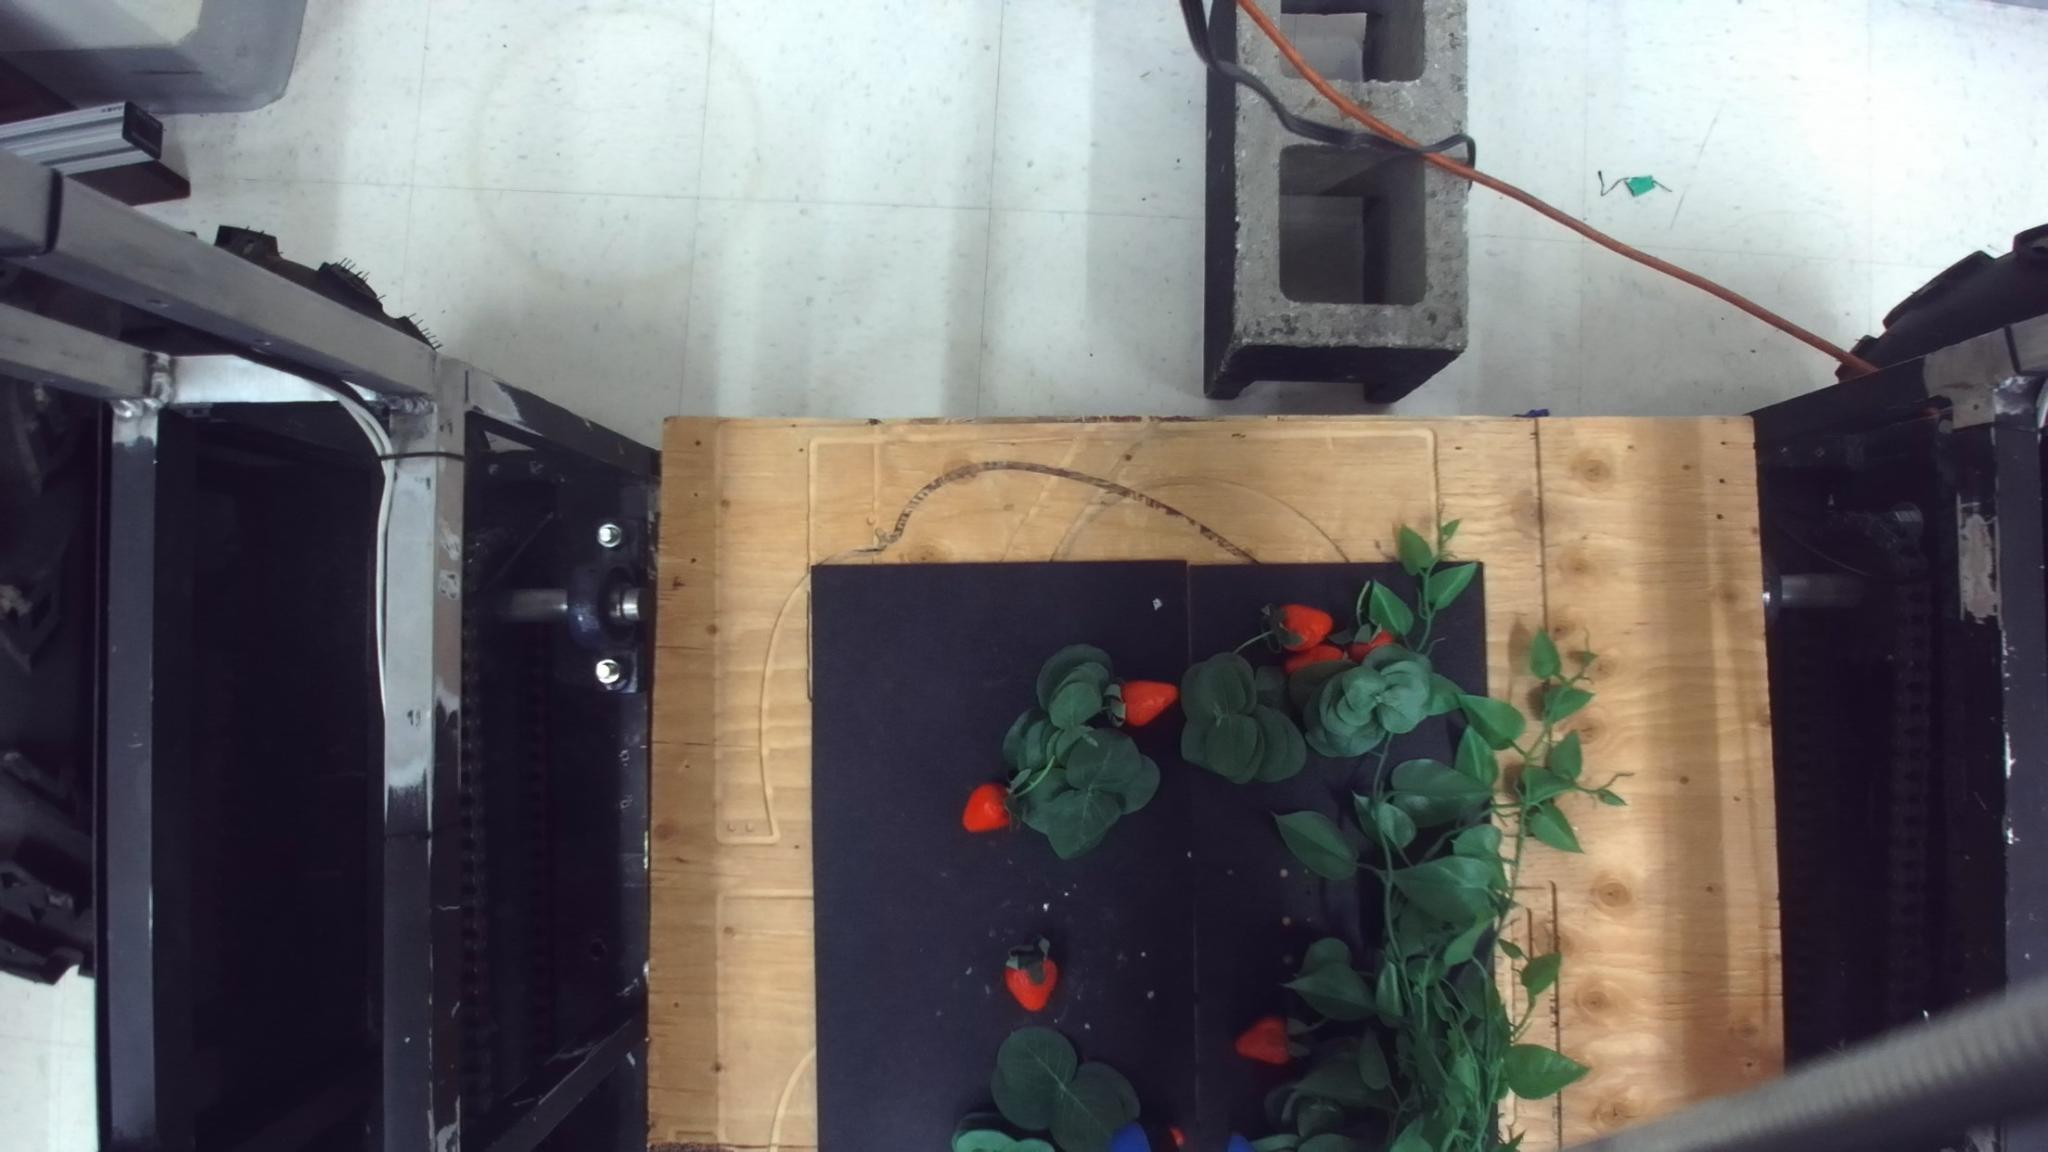strawberry: (1001, 937, 1058, 1013), (1106, 678, 1179, 729), (1262, 602, 1333, 653), (1234, 1014, 1293, 1066), (959, 781, 1011, 833), (1281, 643, 1346, 675), (1348, 626, 1395, 664)
